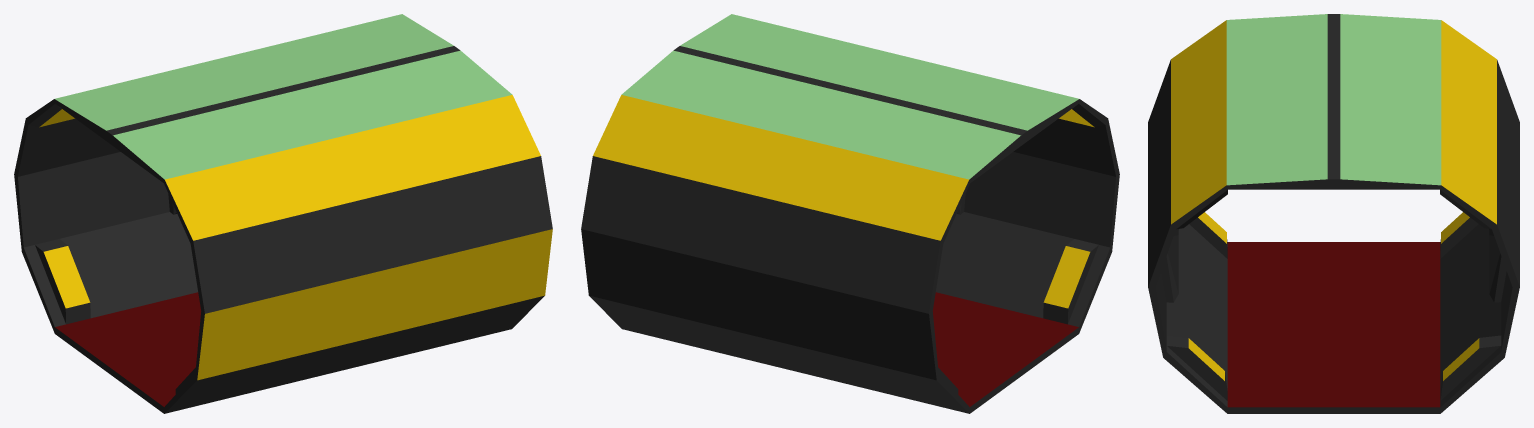
Rendered from Corridore_04.fbx.
3 views of the same model, side by side, from view 1: azimuth 30°, elevation 25°; view 2: azimuth 150°, elevation 25°; view 3: azimuth 270°, elevation 25° (orthographic). The views are drawn at different scales.
Parts seen in each view (by area): view 1: Base_Corridore4; view 2: Base_Corridore4; view 3: Base_Corridore4.
Boxes of the visible parts, x1,y1,x2,y2 form: Base_Corridore4: (14, 14, 552, 413); Base_Corridore4: (581, 14, 1119, 413); Base_Corridore4: (1148, 14, 1519, 413).
Size of the model in its own units: 547 by 362 by 519.
